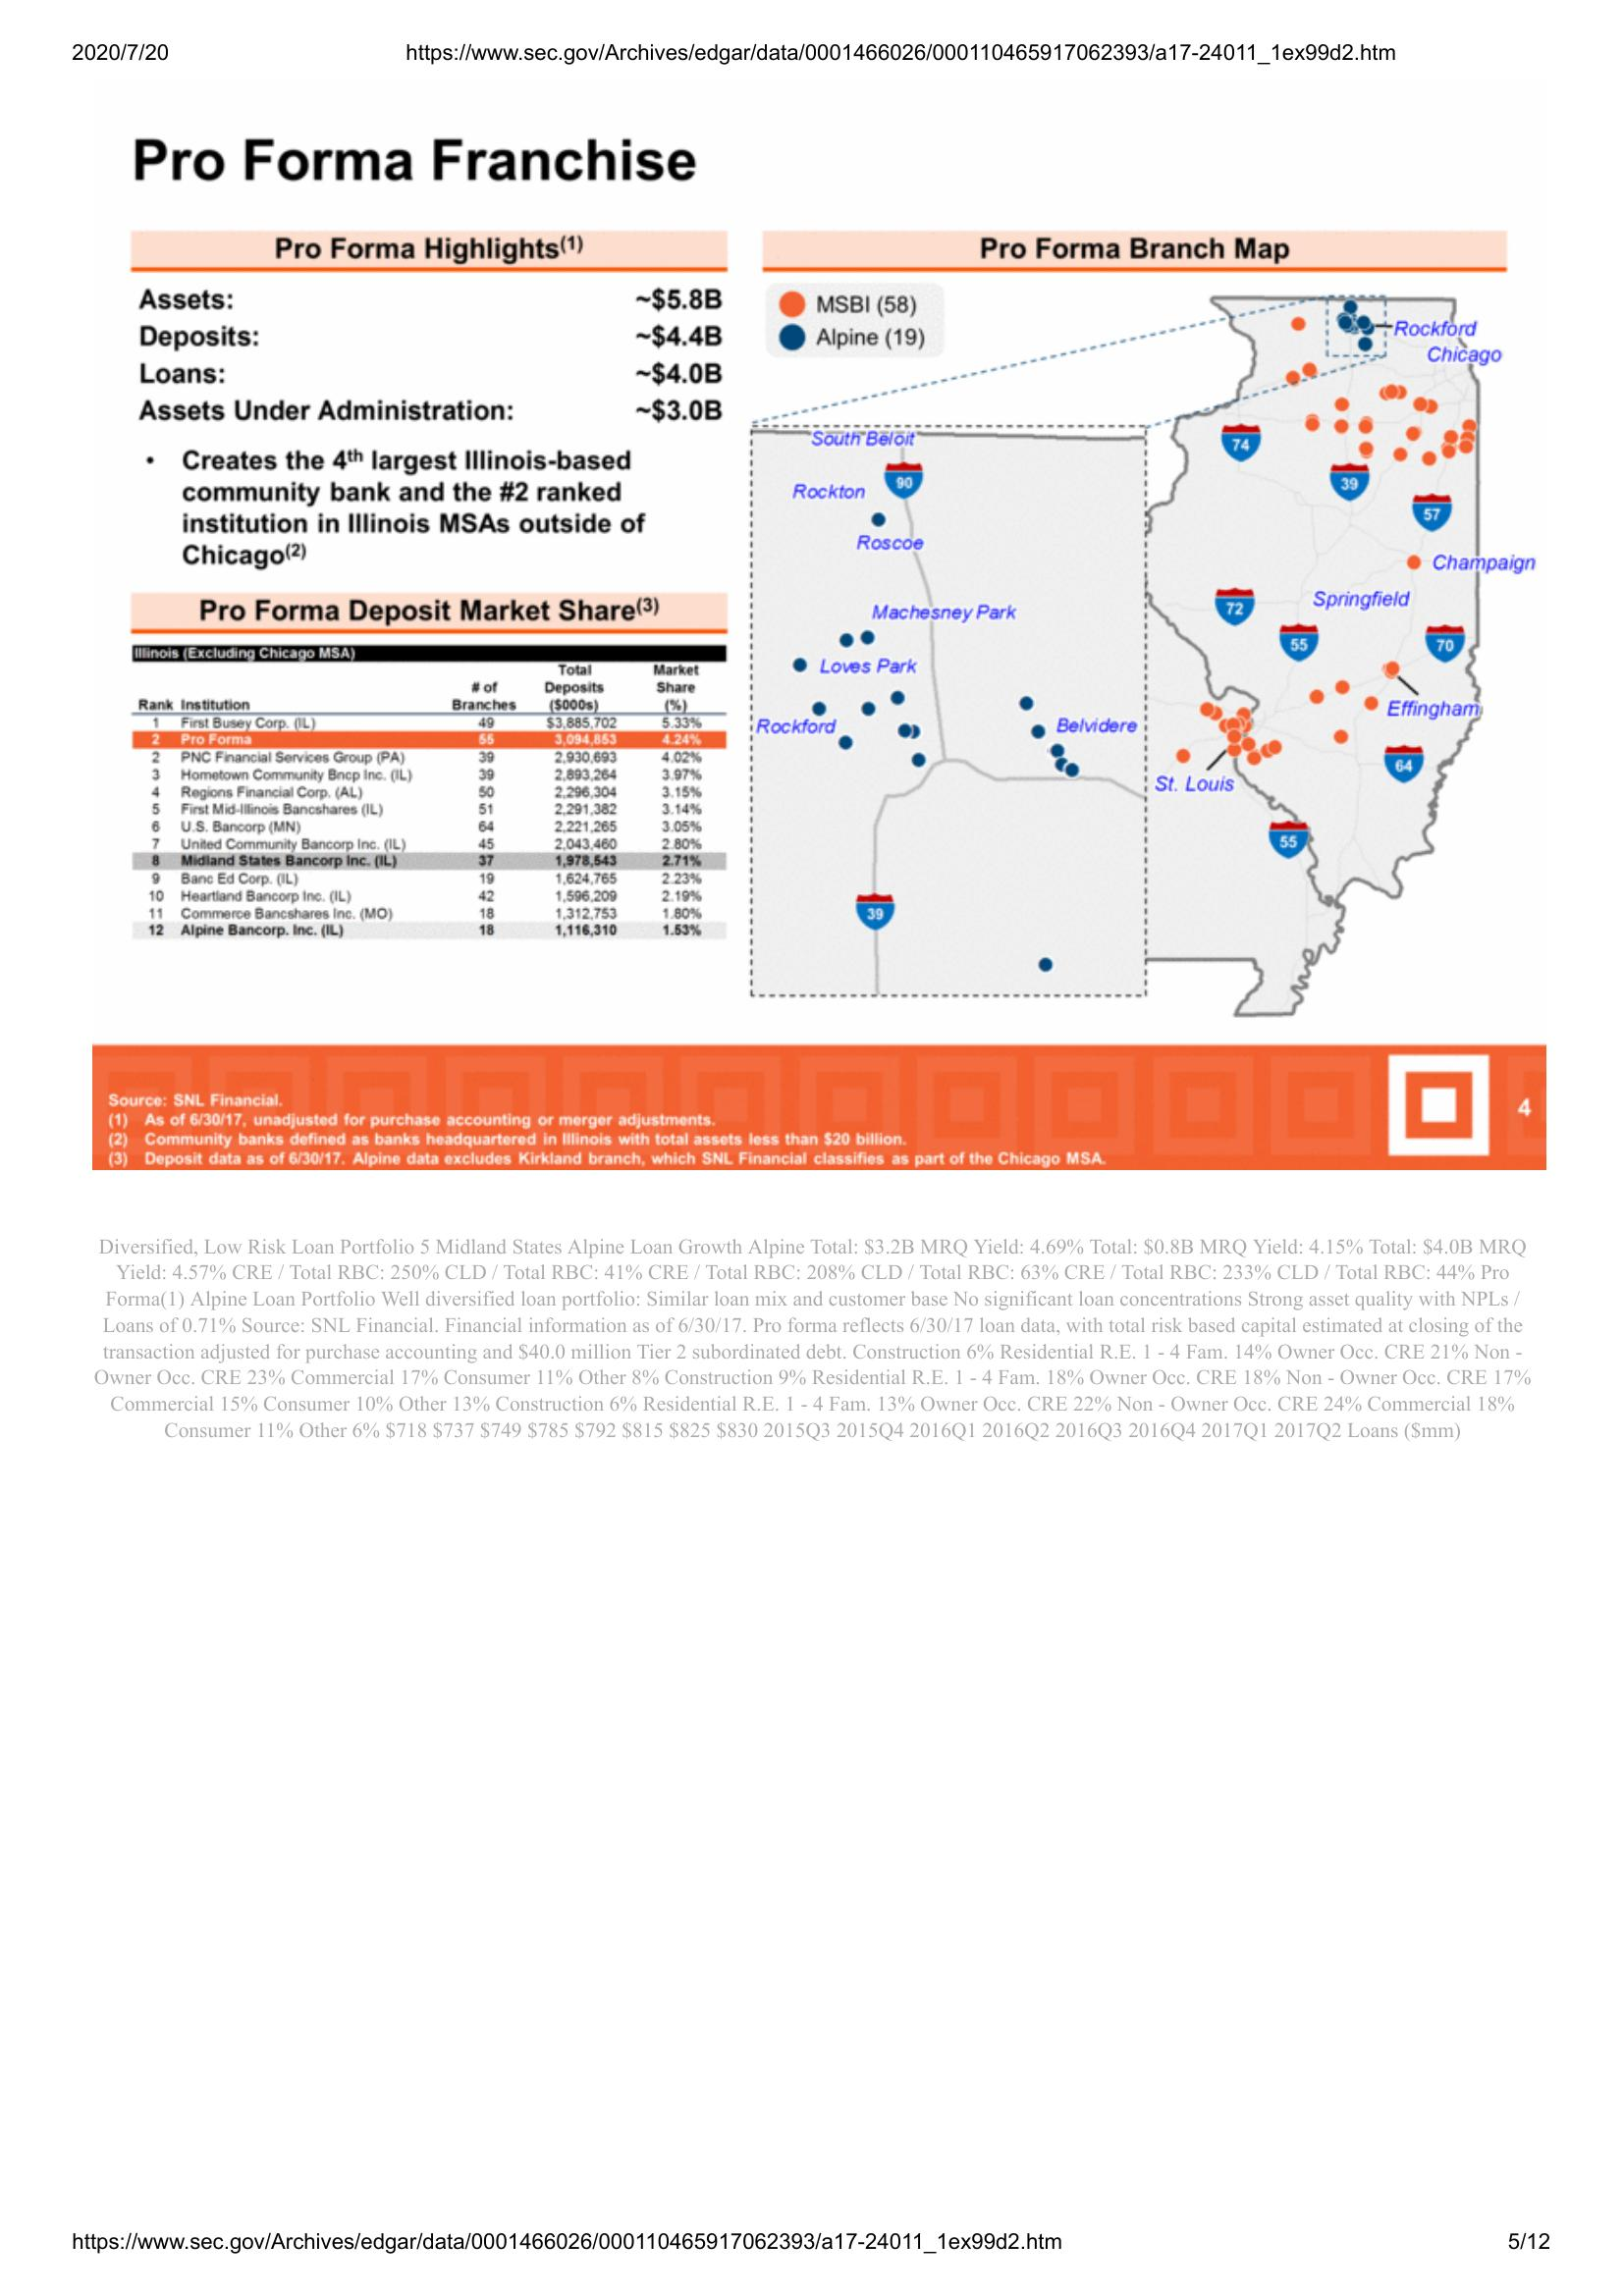table: (128, 593, 732, 943)
